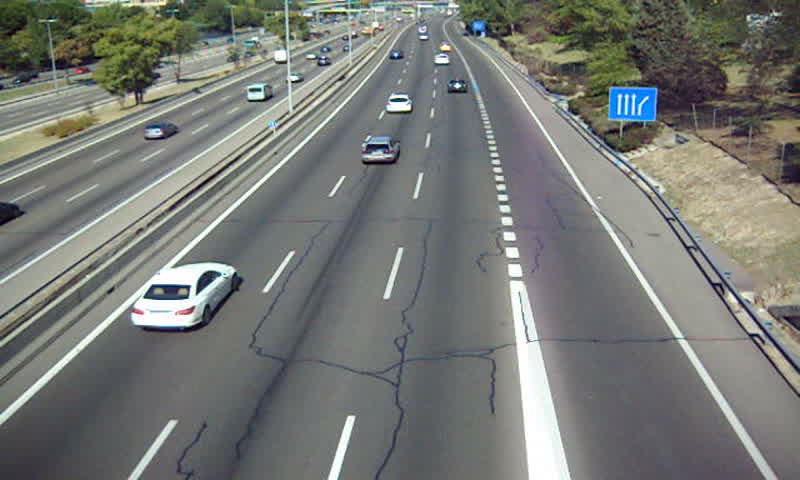car: (132, 263, 240, 329), (361, 136, 402, 164), (385, 95, 413, 114), (446, 78, 466, 94)
